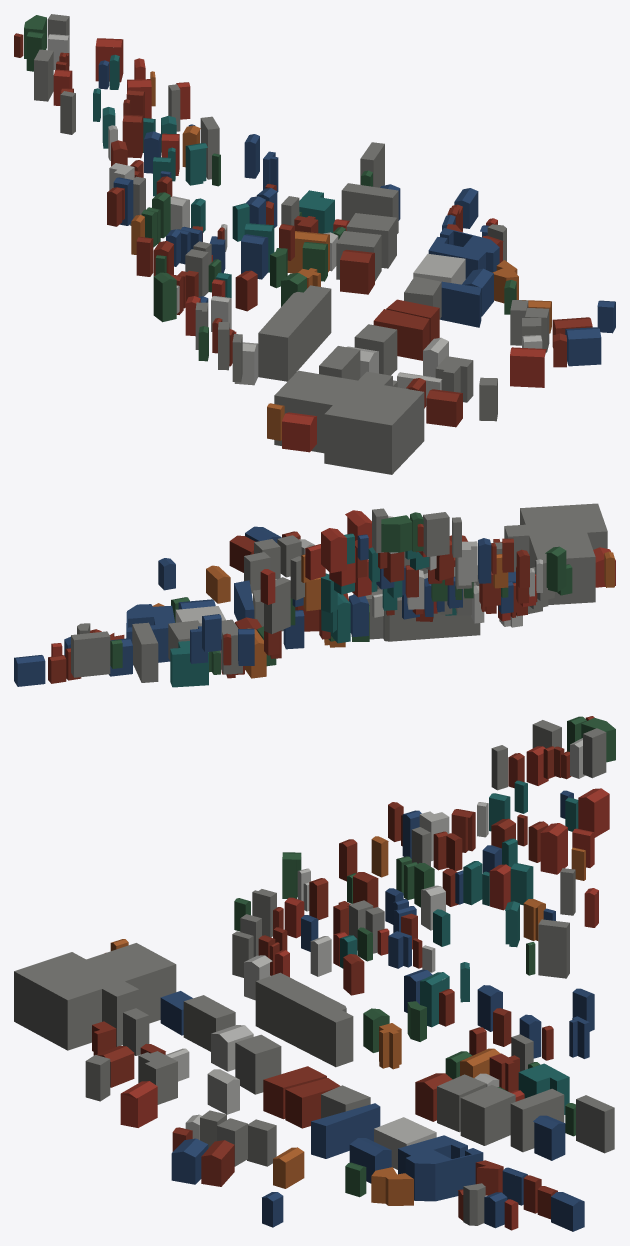
The model's file is near-17-109443-59470.0bf3a076.glb.
3 views of the same model, one above another, from view 1: azimuth 30°, elevation 25°; view 2: azimuth 150°, elevation 25°; view 3: azimuth 270°, elevation 25° (orthographic). The views are drawn at different scales.
Bounding box in the file's own units: 307 × 189 × 343.
